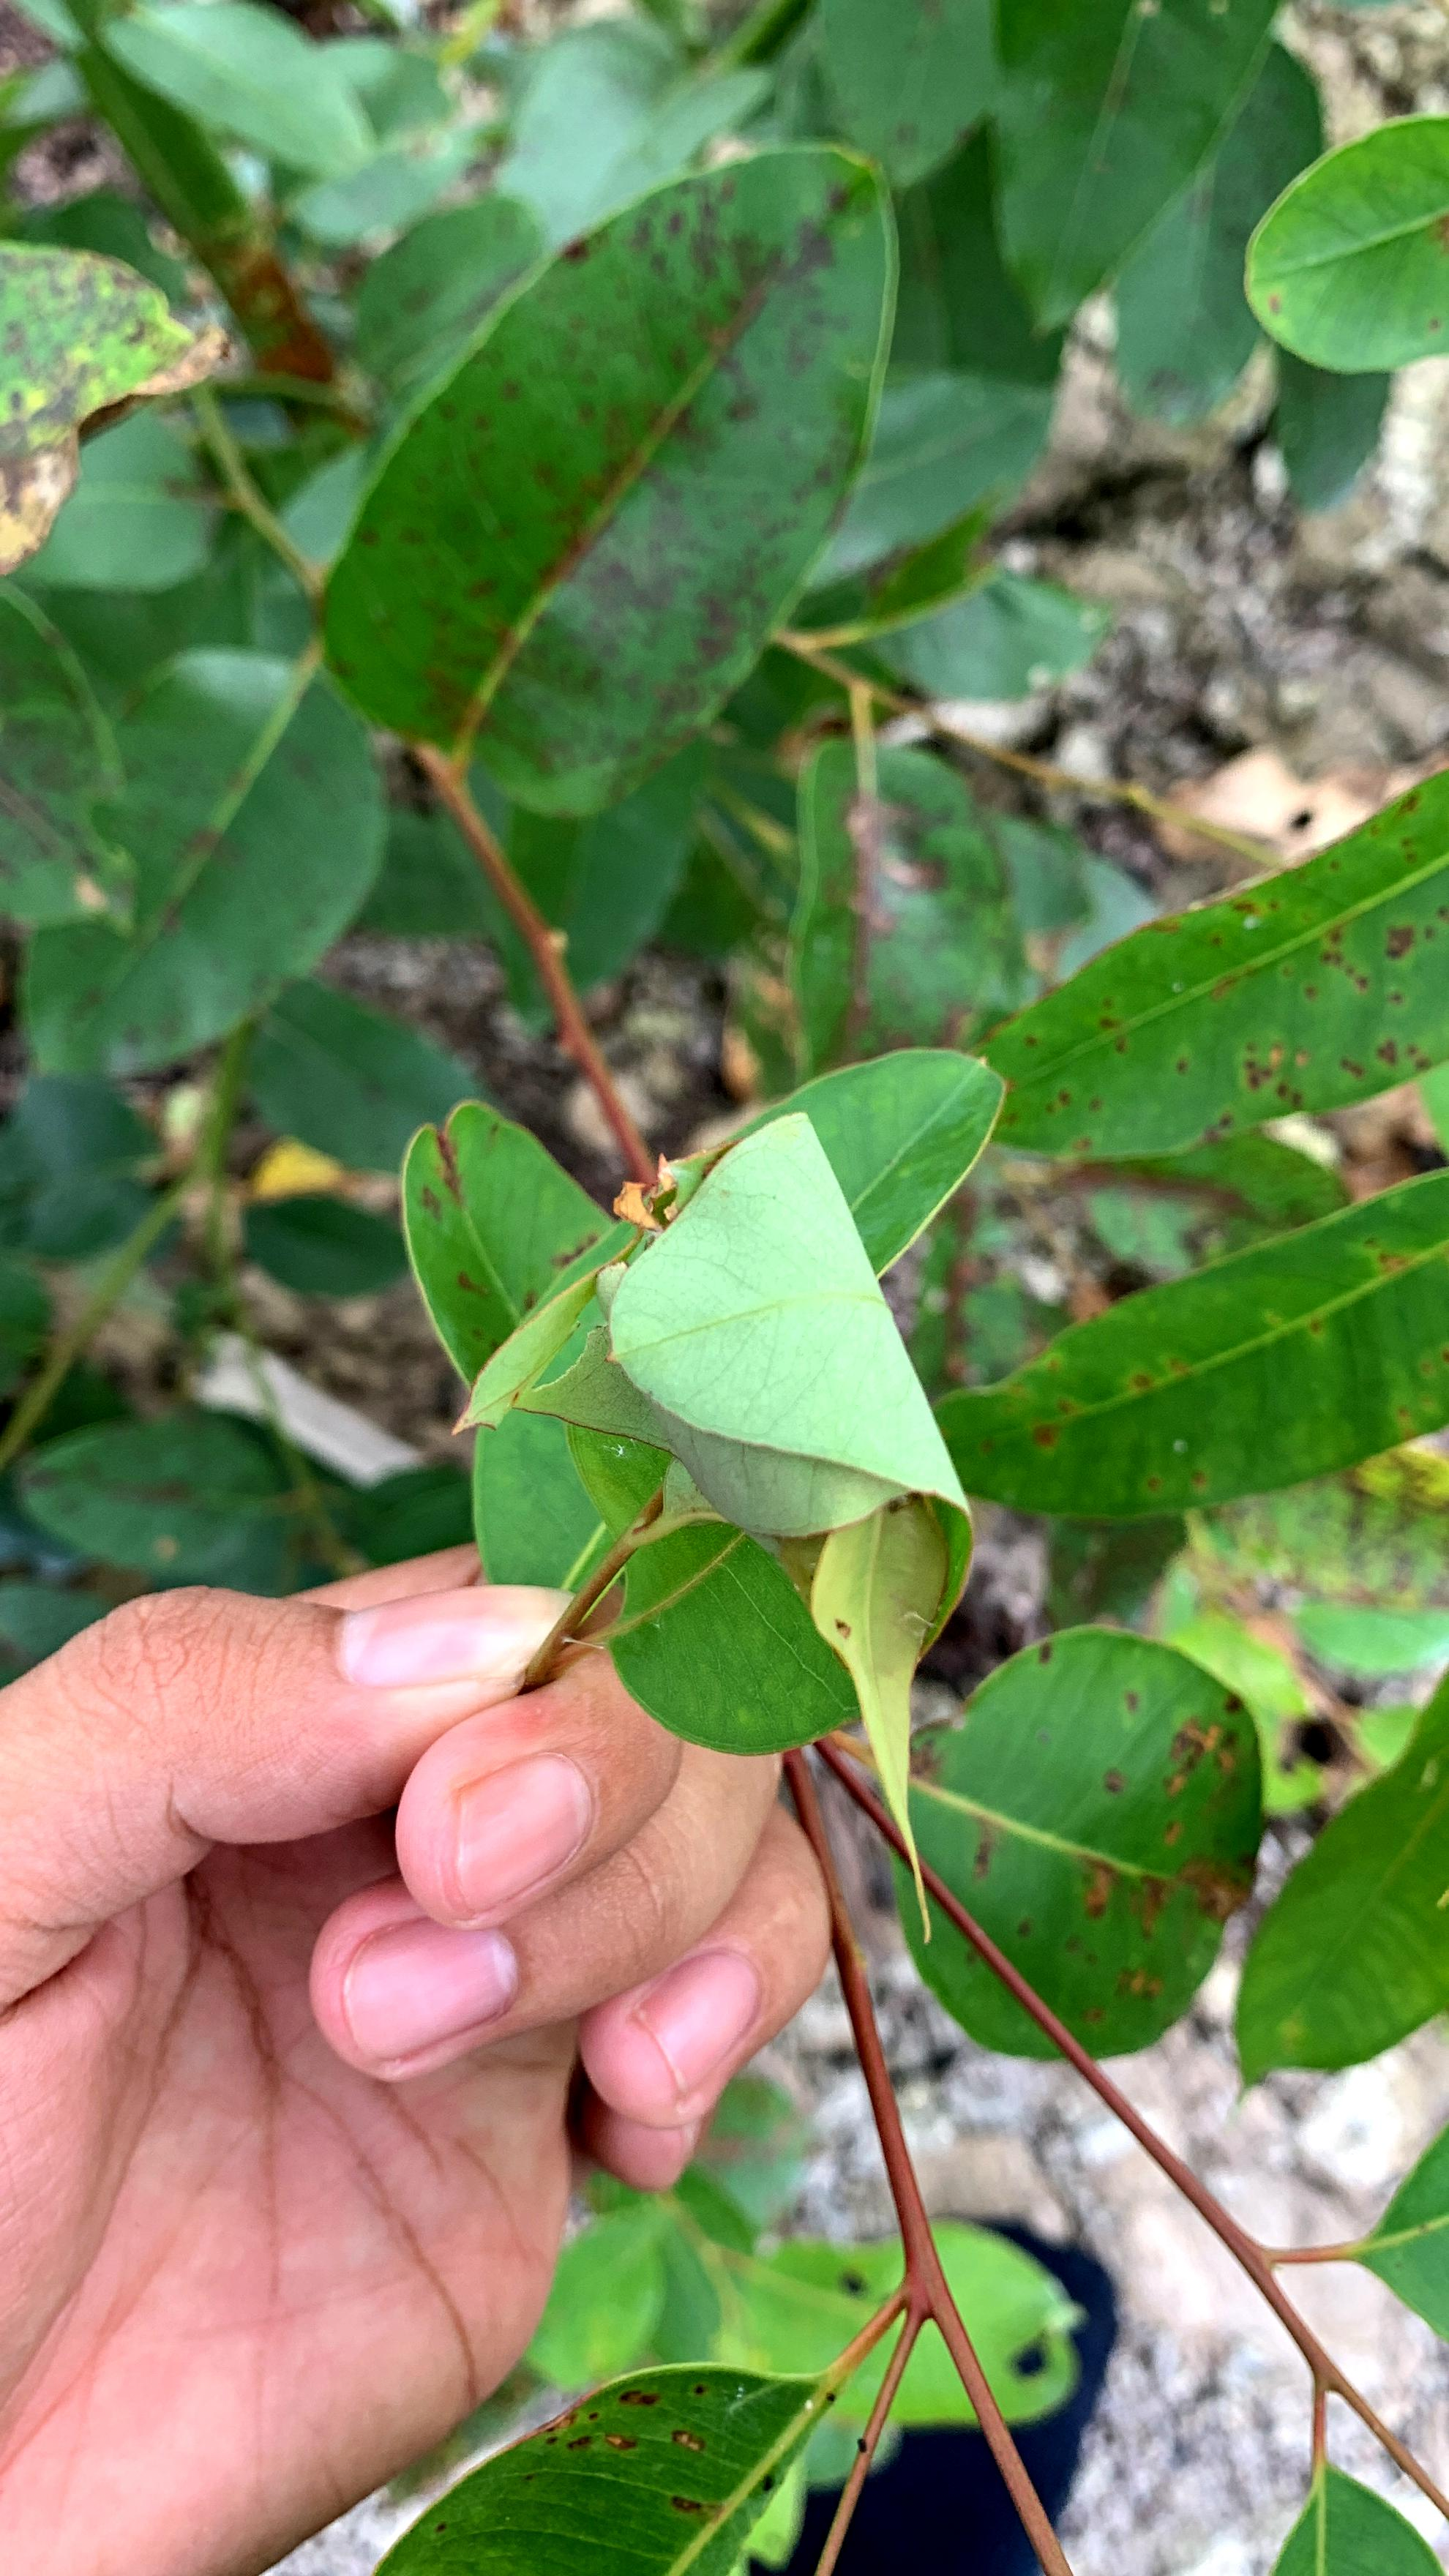Leaf Roller - Leaf: (542, 1113, 969, 1782)
